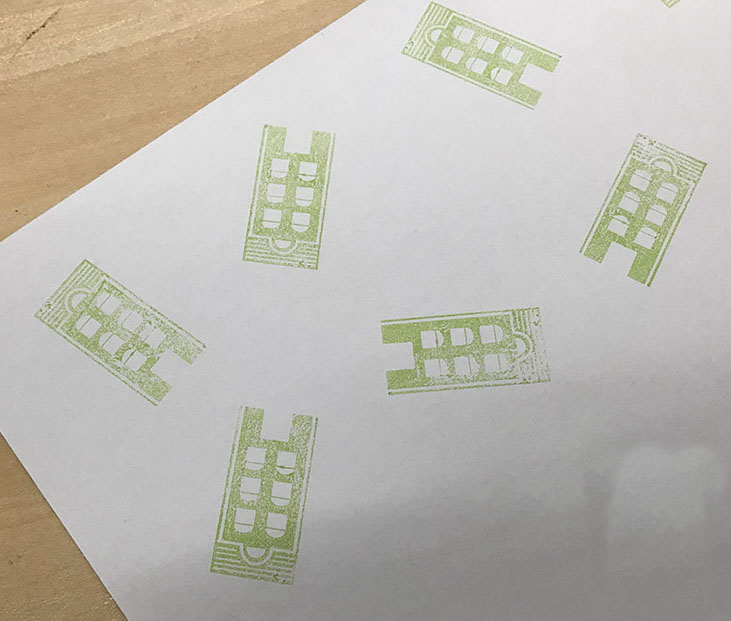build: (20, 247, 225, 415), (203, 398, 339, 592), (369, 292, 561, 423), (574, 125, 714, 299), (394, 1, 567, 124), (236, 111, 348, 277)
